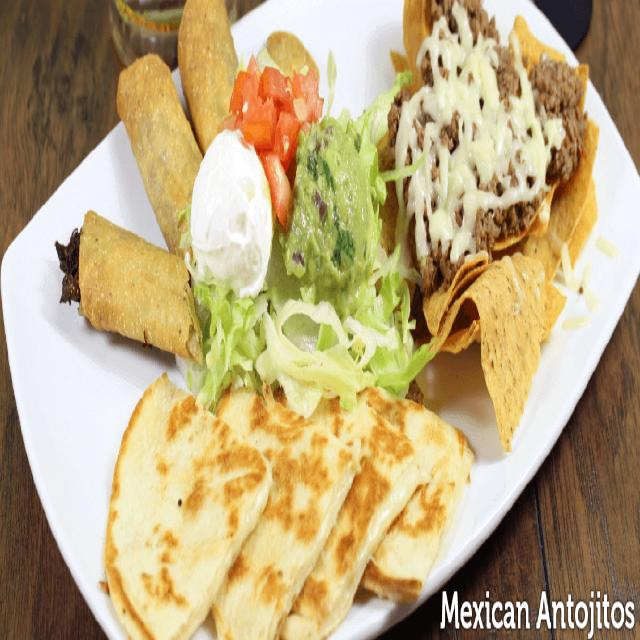Spring Rolls: (33, 2, 270, 360)
